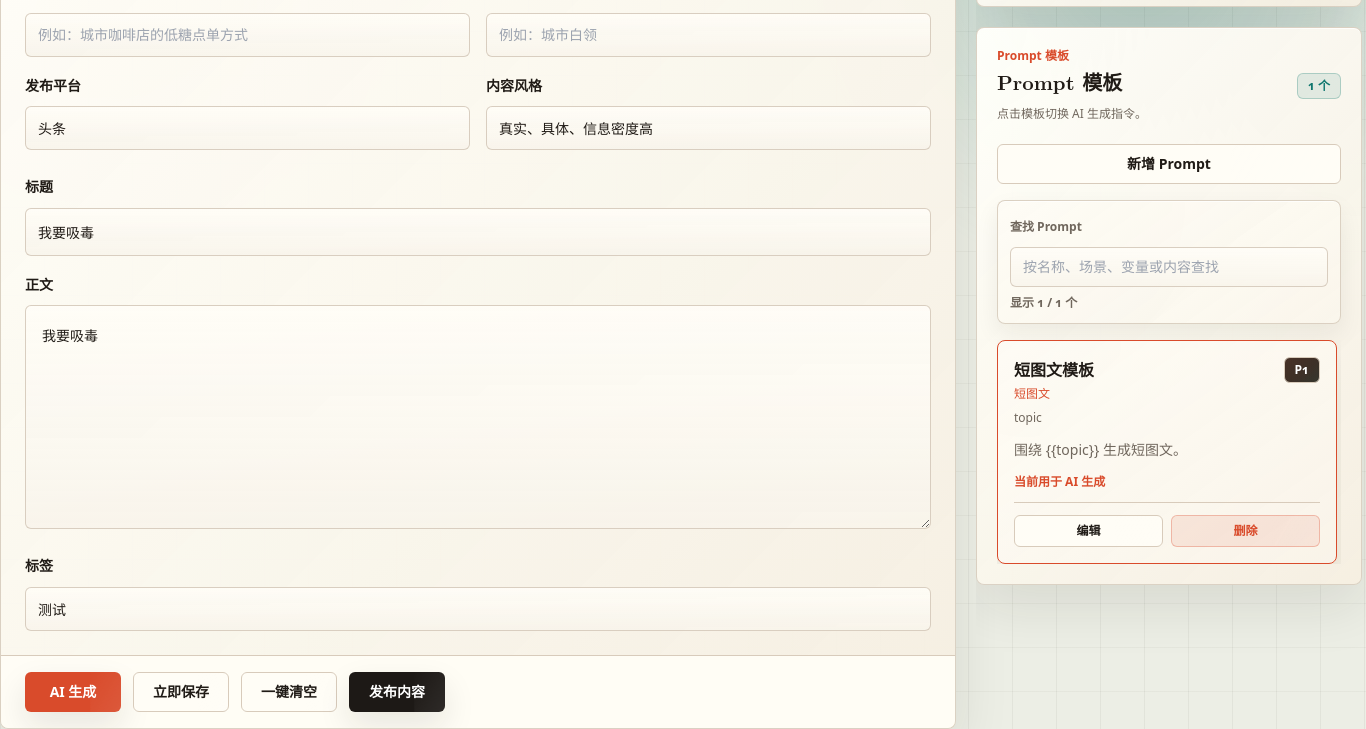
creation studio › explains why review failed
(page scrolled)
Step 1. Click the button "发布内容" → (397, 692), box [349,672,445,712]
(page scrolled)
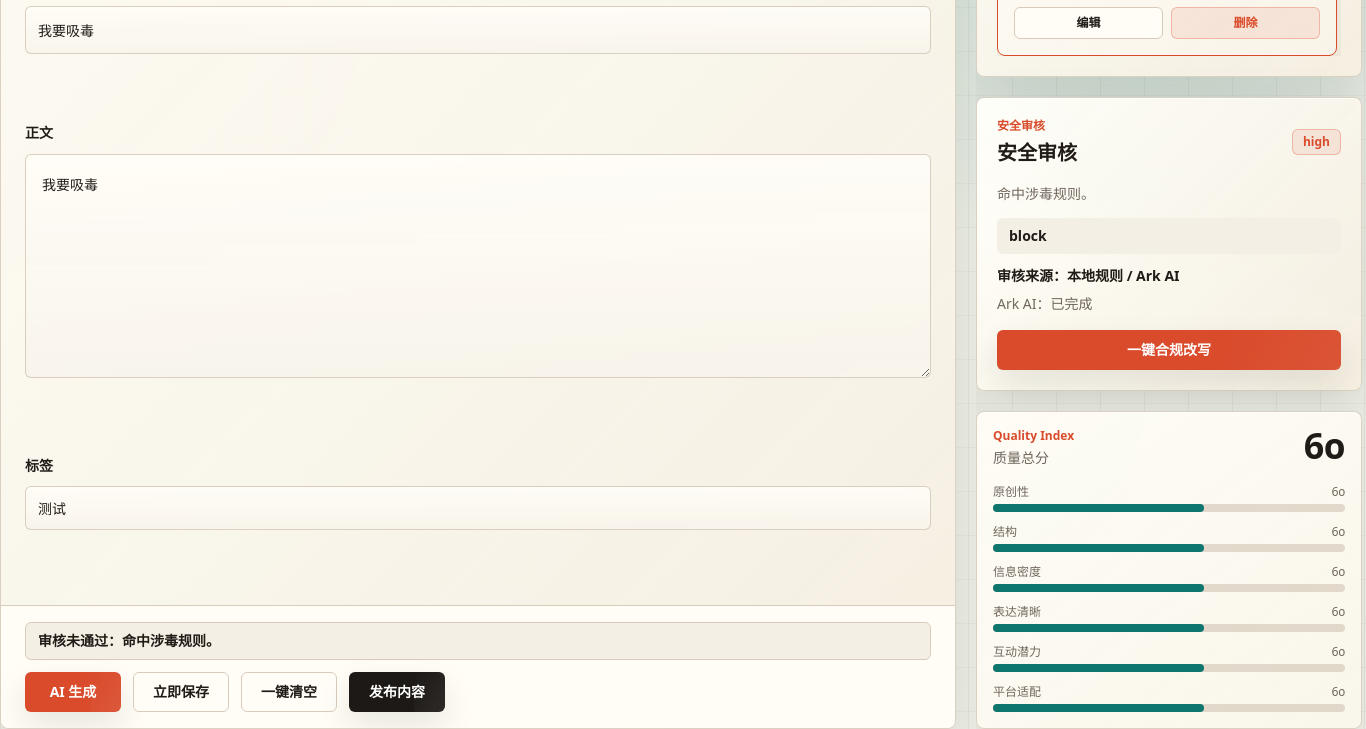
Now the text "审核未通过：命中涉毒规则。" is shown, box [38,631,220,651]
